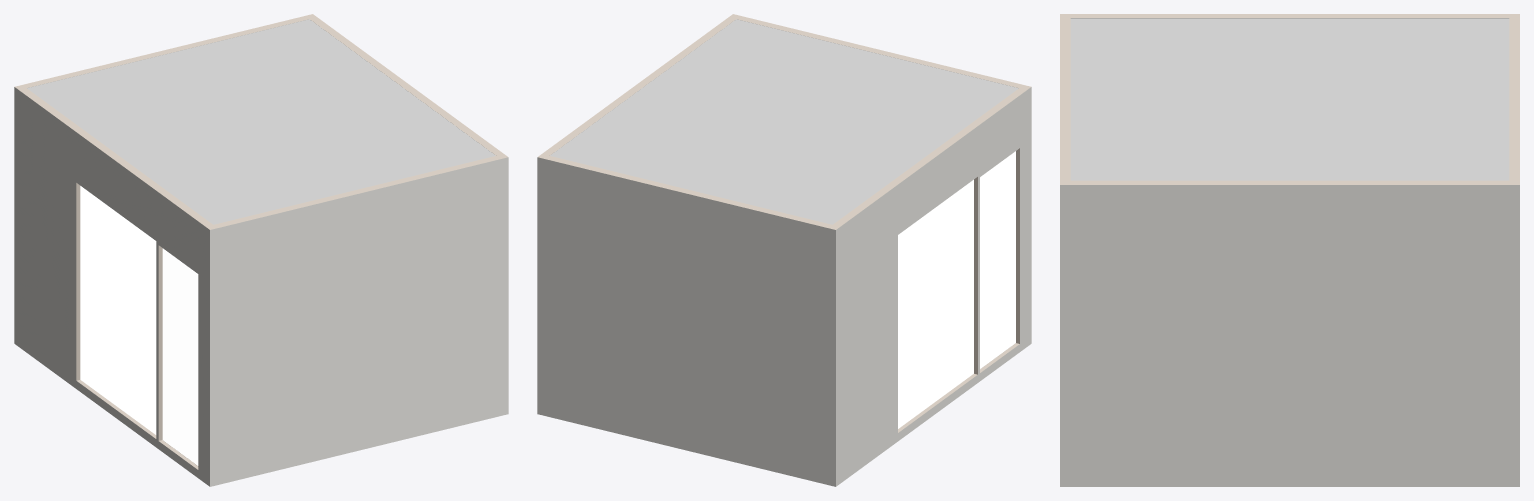
File: room_scan_1120.glb
The picture shows the model from 3 angles, left to right: view 1: azimuth 30°, elevation 25°; view 2: azimuth 150°, elevation 25°; view 3: azimuth 270°, elevation 25°; orthographic projection. The views are drawn at different scales.
Visible parts, largest first — view 1: Wall_2, Ceiling_Office, Wall_1, Window_0, Door_0, Wall_0, Wall_3; view 2: Wall_3, Ceiling_Office, Wall_1, Window_0, Door_0, Wall_0, Wall_2; view 3: Wall_0, Ceiling_Office, Wall_1, Wall_2, Wall_3.
Part boxes in pixels (x1,y1,x2,y2): Wall_2: [210, 156, 508, 486]; Ceiling_Office: [27, 19, 495, 224]; Wall_1: [14, 87, 212, 486]; Window_0: [80, 186, 156, 434]; Door_0: [162, 248, 198, 465]; Wall_0: [310, 14, 507, 156]; Wall_3: [15, 14, 312, 88]; Wall_3: [537, 156, 835, 486]; Ceiling_Office: [550, 19, 1018, 224]; Wall_1: [833, 87, 1031, 486]; Window_0: [898, 179, 973, 428]; Door_0: [980, 151, 1015, 368]; Wall_0: [538, 14, 735, 156]; Wall_2: [733, 14, 1030, 88]; Wall_0: [1060, 180, 1519, 486]; Ceiling_Office: [1070, 18, 1509, 180]; Wall_1: [1061, 14, 1518, 18]; Wall_2: [1060, 14, 1070, 184]; Wall_3: [1509, 14, 1519, 184].
Size of the model in its own units: 3.83 by 3.15 by 4.35.
11 materials, 1 textured.
